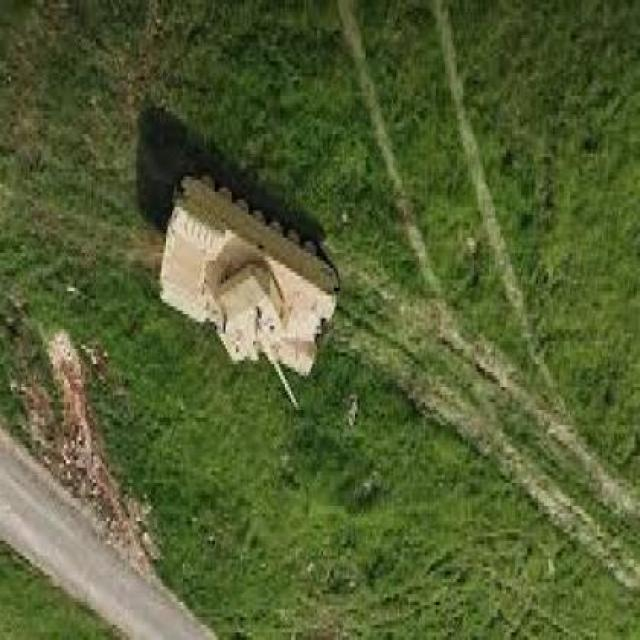tank: (156, 167, 338, 414)
